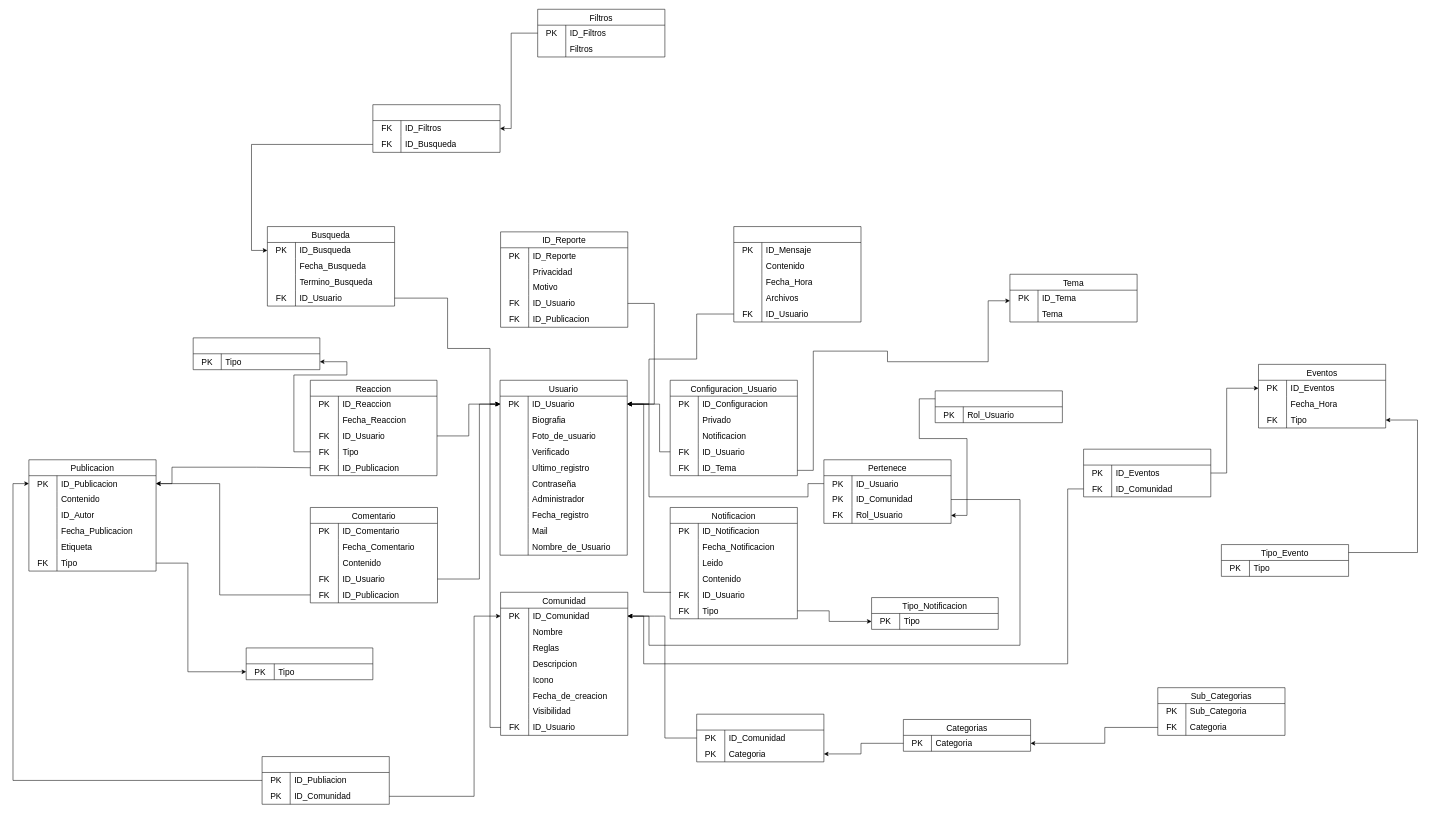
Image size: 1431x814. Some labels were removed from this diagram. Each missing label, with the box of its shape:
Busca: (372, 104, 500, 152)
Comunidad_Eventos: (1083, 449, 1211, 497)
Mensaje_Privado: (733, 226, 861, 322)
Publican: (262, 756, 389, 804)
Roles: (935, 390, 1062, 423)
Tiene: (696, 714, 824, 762)
Tipo_Publicacion: (246, 647, 373, 680)
Tipo_Reaccion: (193, 337, 320, 370)
